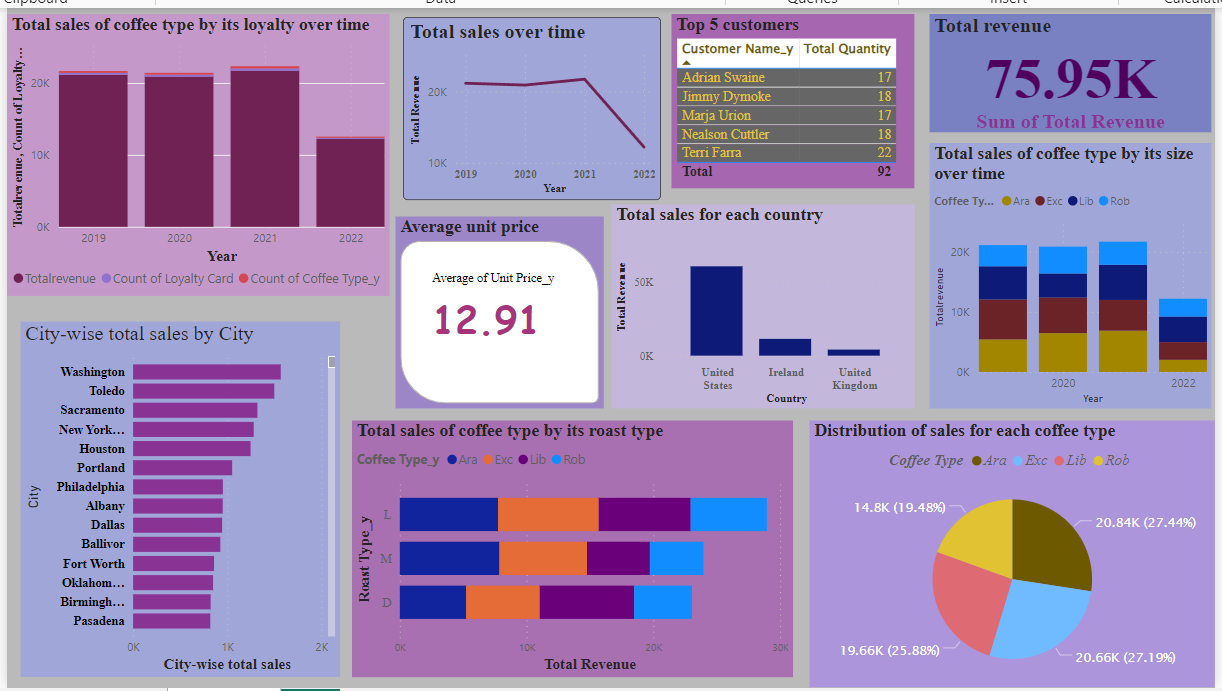

The dashboard page shown, as its layout file describes it:
{"tool":"powerbi","page":{"name":"Page 1","canvas":[1280,720],"ordinal":0},"visuals":[{"type":"lineChart","title":"Total sales over time","fields":{"Category":["Coffee Bean Dataset-Cleaned.Order Date.Variation.Date Hierarchy.Year","Coffee Bean Dataset-Cleaned.Order Date.Variation.Date Hierarchy.Quarter","Coffee Bean Dataset-Cleaned.Order Date.Variation.Date Hierarchy.Month","Coffee Bean Dataset-Cleaned.Order Date.Variation.Date Hierarchy.Day"],"Y":["Coffee Bean Dataset-Cleaned.Totalrevenue"]},"box":[419.6,9.5,273.4,193.9],"z":0},{"type":"card","title":"Total revenue","fields":{"Values":["Coffee Bean Dataset-Cleaned.Total Revenue"]},"box":[977.5,6.4,298.8,125.6],"z":1},{"type":"clusteredBarChart","fields":{"Category":["Coffee Bean Dataset-Cleaned.City"],"Y":["Coffee Bean Dataset-Cleaned.City-wise total sales"]},"box":[14.3,332.2,338.5,376.7],"z":2},{"type":"pieChart","title":"Distribution of sales for each coffee type","fields":{"Category":["Coffee Bean Dataset-Cleaned.Coffee Type_y"],"Y":["Coffee Bean Dataset-Cleaned.Totalrevenue"]},"box":[850.3,437.1,429.1,282.9],"z":3},{"type":"tableEx","title":"Top 5 customers","fields":{"Values":["Coffee Bean Dataset-Cleaned.Customer Name_y","Coffee Bean Dataset-Cleaned.Total Quantity"]},"box":[704.1,6.4,257.5,184.4],"z":4},{"type":"columnChart","title":"Total sales of coffee type by its size over time","fields":{"Category":["Coffee Bean Dataset-Cleaned.Order Date.Variation.Date Hierarchy.Year","Coffee Bean Dataset-Cleaned.Order Date.Variation.Date Hierarchy.Quarter","Coffee Bean Dataset-Cleaned.Order Date.Variation.Date Hierarchy.Month","Coffee Bean Dataset-Cleaned.Order Date.Variation.Date Hierarchy.Day"],"Y":["Coffee Bean Dataset-Cleaned.Totalrevenue"],"Series":["Coffee Bean Dataset-Cleaned.Coffee Type_y"]},"box":[977.5,143,298.8,281.3],"z":5},{"type":"columnChart","title":"Total sales for each country","fields":{"Category":["Coffee Bean Dataset-Cleaned.Country_y"],"Y":["Coffee Bean Dataset-Cleaned.Totalrevenue"]},"box":[640.5,208.2,321.1,216.2],"z":6},{"type":"barChart","title":"Total sales of coffee type by its roast type","fields":{"Category":["Coffee Bean Dataset-Cleaned.Roast Type_y"],"Y":["Coffee Bean Dataset-Cleaned.Totalrevenue"],"Series":["Coffee Bean Dataset-Cleaned.Coffee Type_y"]},"box":[365.6,437.1,467.3,271.8],"z":7},{"type":"columnChart","title":"Total sales of coffee type by its loyalty over time","fields":{"Category":["Coffee Bean Dataset-Cleaned.Order Date.Variation.Date Hierarchy.Year","Coffee Bean Dataset-Cleaned.Order Date.Variation.Date Hierarchy.Quarter","Coffee Bean Dataset-Cleaned.Order Date.Variation.Date Hierarchy.Month","Coffee Bean Dataset-Cleaned.Order Date.Variation.Date Hierarchy.Day"],"Y":["Coffee Bean Dataset-Cleaned.Totalrevenue","Coffee Bean Dataset-Cleaned.Loyalty Card","Coffee Bean Dataset-Cleaned.Coffee Type_y"]},"box":[0,6.4,405.3,298.8],"z":8},{"type":"cardVisual","title":"Average unit price","fields":{"Data":["Coffee Bean Dataset-Cleaned.Unit Price_y"]},"box":[411.7,220.9,220.9,203.4],"z":9}]}

Visuals, with their boxes in screenshot pixels (x1, y1, x2, y2):
"Total sales over time" lineChart: bbox(401, 25, 659, 207)
"Total revenue" card: bbox(927, 22, 1208, 140)
clusteredBarChart - Coffee Bean Dataset-Cleaned.City x Coffee Bean Dataset-Cleaned.City-wise total sales: bbox(20, 329, 339, 683)
"Distribution of sales for each coffee type" pieChart: bbox(807, 427, 1211, 690)
"Top 5 customers" tableEx: bbox(669, 22, 912, 196)
"Total sales of coffee type by its size over time" columnChart: bbox(927, 151, 1208, 415)
"Total sales for each country" columnChart: bbox(609, 212, 912, 415)
"Total sales of coffee type by its roast type" barChart: bbox(351, 427, 791, 683)
"Total sales of coffee type by its loyalty over time" columnChart: bbox(6, 22, 388, 303)
"Average unit price" cardVisual: bbox(394, 224, 602, 415)
